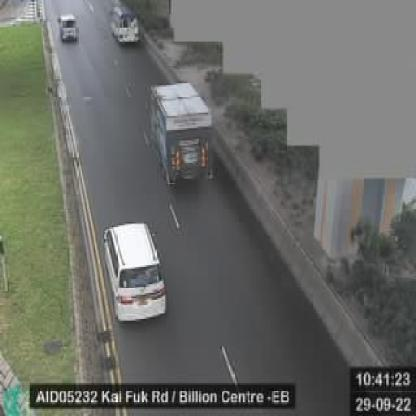Car: (94, 217, 176, 324), (52, 9, 84, 48)
Minibus: (102, 0, 143, 50)
Truck: (136, 78, 218, 185)
